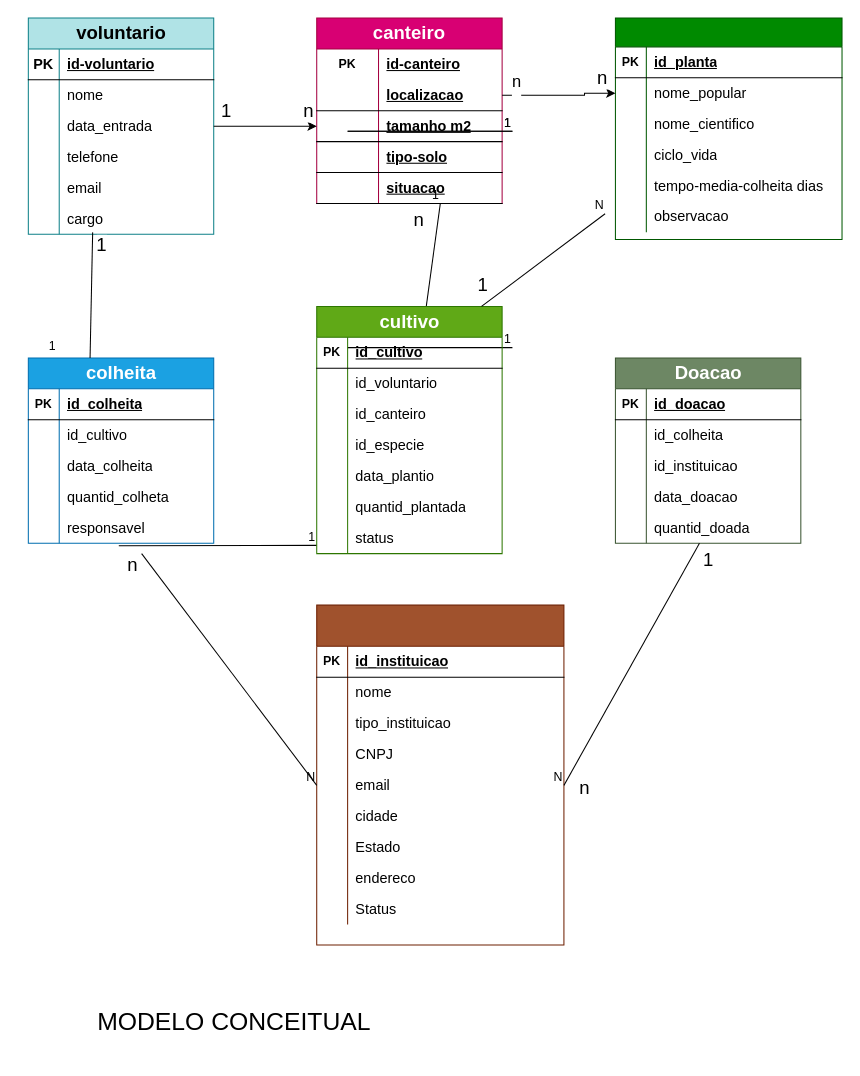
This 860x1076 diagram has some shape labels left out. The box of each missing label's shape, as (x1, y1, x2, y2) in pixels:
especie de planta: (614, 17, 842, 239)
Intituicao: (316, 604, 564, 945)
